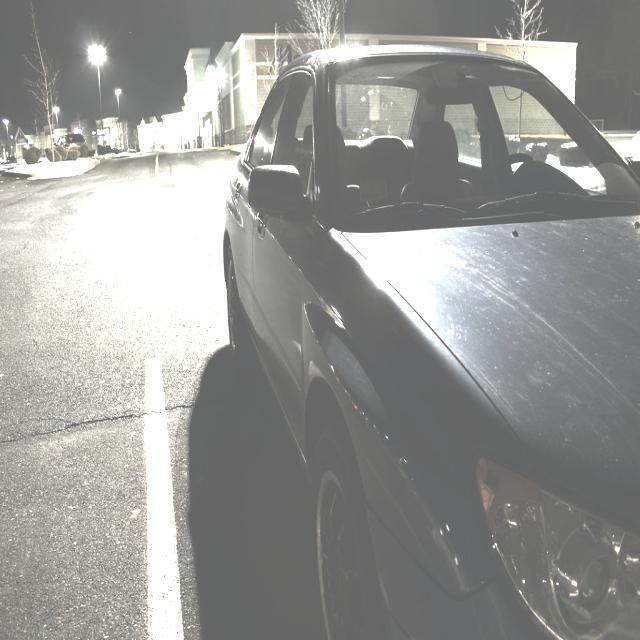Car: (221, 46, 640, 640)
